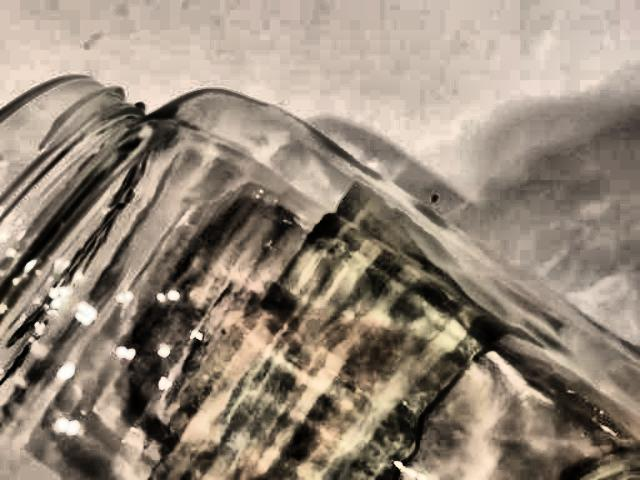Almennt: (0, 51, 640, 480)
